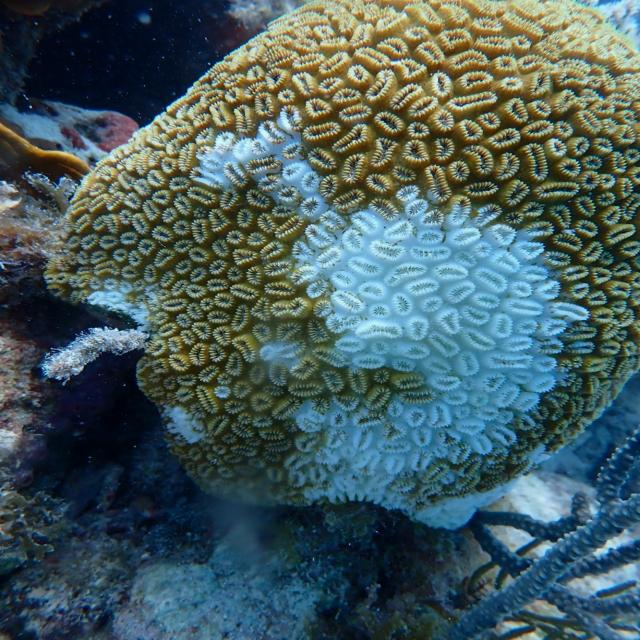Coral: (40, 0, 639, 533)
